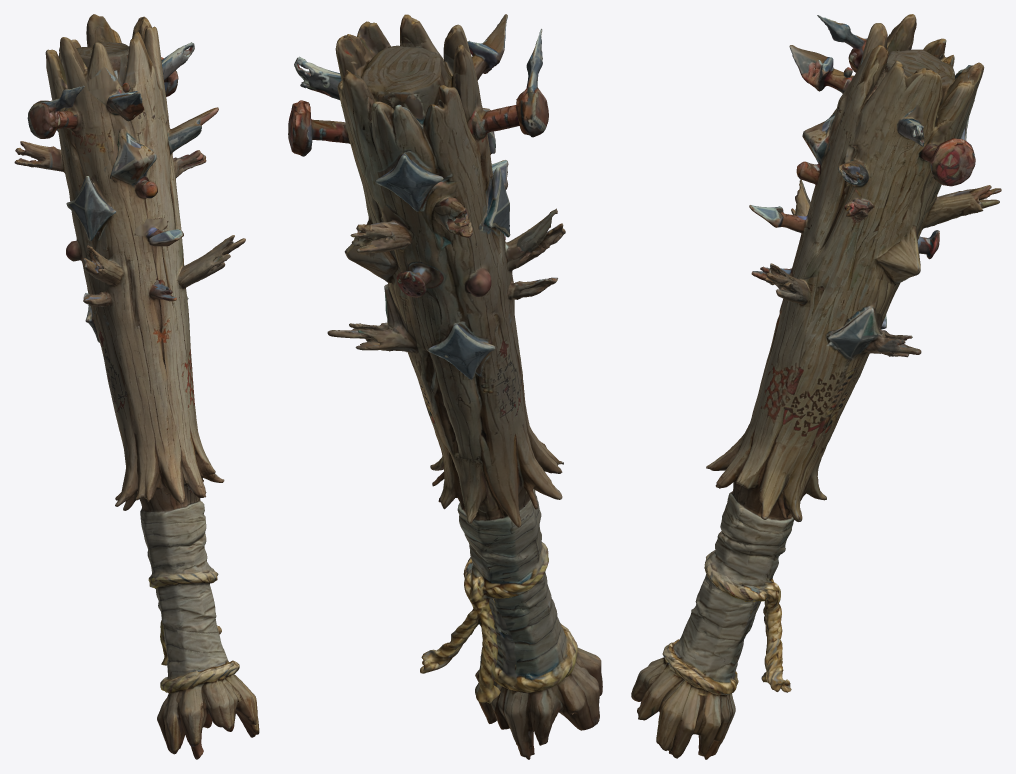
File: GoblinClub.glb
The picture shows the model from 3 angles, left to right: view 1: azimuth 30°, elevation 25°; view 2: azimuth 150°, elevation 25°; view 3: azimuth 270°, elevation 25°; orthographic projection. The views are drawn at different scales.
Parts seen in each view (by area): view 1: texture_mapping; view 2: texture_mapping; view 3: texture_mapping.
Boxes of the visible parts, x1,y1,x2,y2 form: texture_mapping: (14,14,259,759); texture_mapping: (288,14,602,759); texture_mapping: (631,14,1001,759).
Bounding box in the file's own units: 0.2893 × 0.9985 × 0.4621.
1 material, 1 textured.
